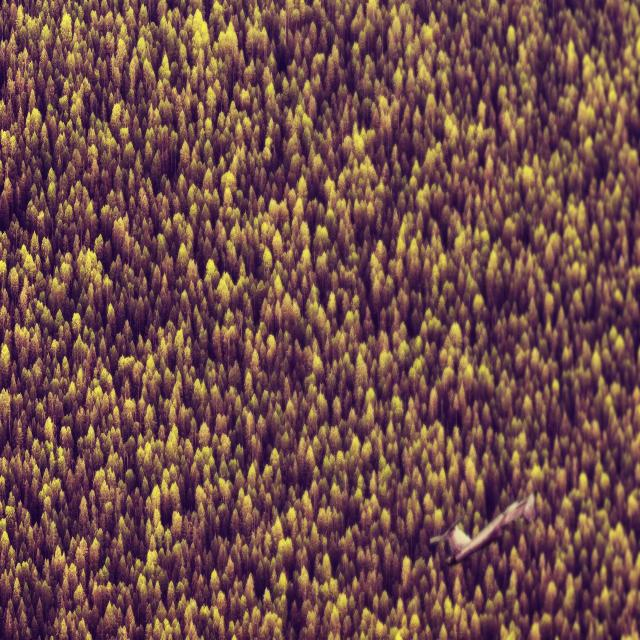airplane: (429, 492, 535, 566)
